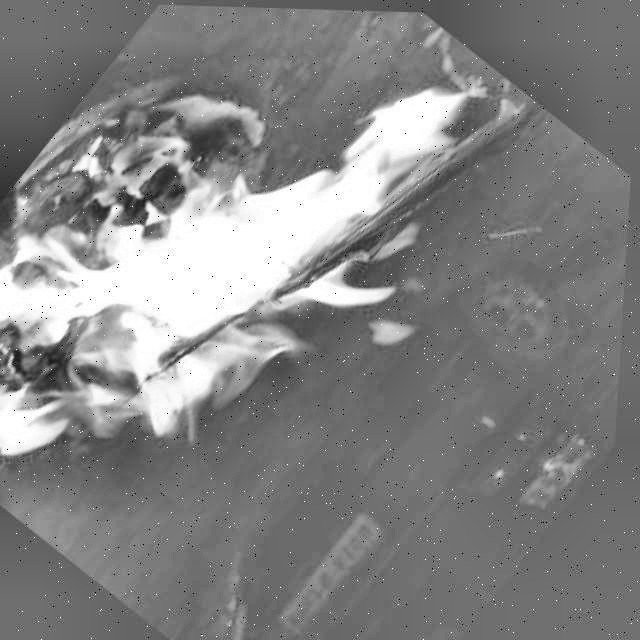Fire: (0, 0, 577, 635)
